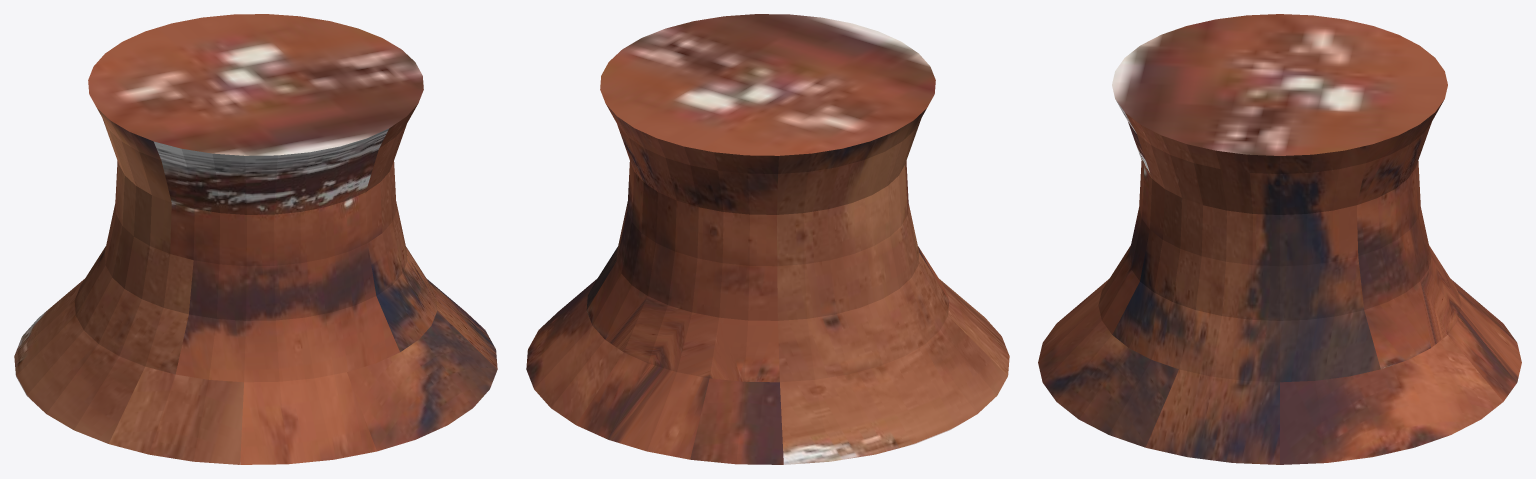
Rendered from obstaculo.obj.
The picture shows the model from 3 angles, left to right: view 1: azimuth 30°, elevation 25°; view 2: azimuth 150°, elevation 25°; view 3: azimuth 270°, elevation 25°; orthographic projection.
Parts seen in each view (by area): view 1: Cylinder; view 2: Cylinder; view 3: Cylinder.
Part boxes in pixels (<box>): Cylinder: <box>14,14,497,464</box>; Cylinder: <box>526,14,1009,464</box>; Cylinder: <box>1038,14,1521,464</box>.
Bounding box in the file's own units: 3.5 × 2.22 × 3.5.
